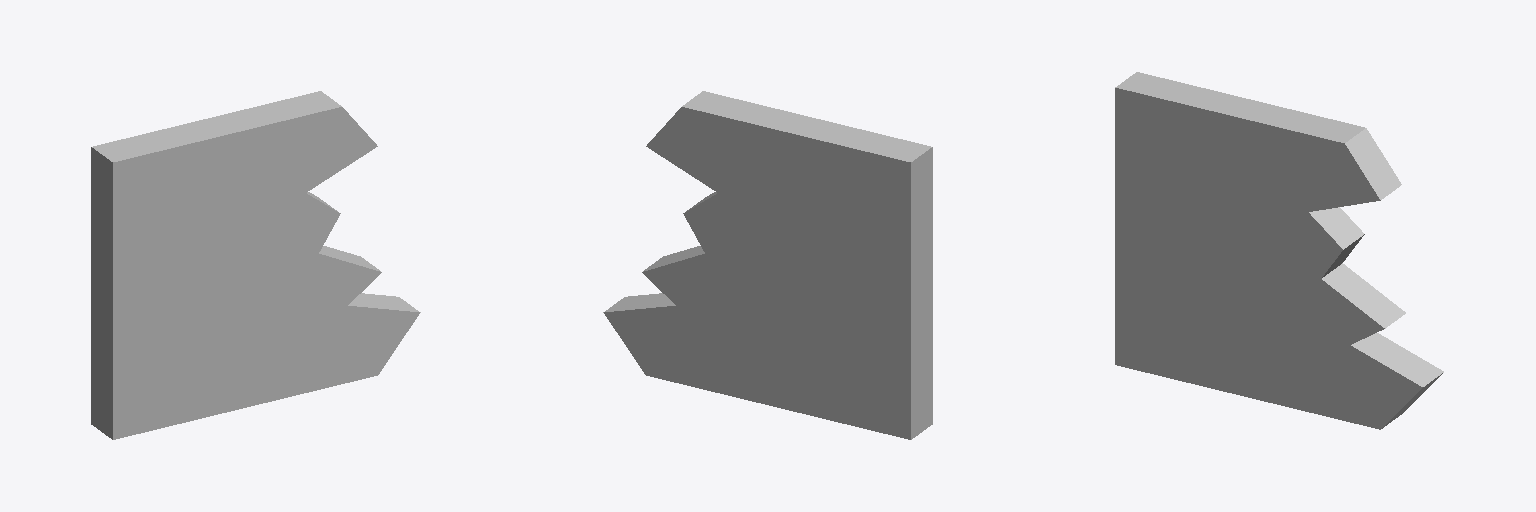
The model's file is microfacet.obj.
3 views of the same model, side by side, from view 1: azimuth 30°, elevation 25°; view 2: azimuth 150°, elevation 25°; view 3: azimuth 330°, elevation 25° (orthographic).
Parts seen in each view (by area): view 1: Cube; view 2: Cube; view 3: Cube.
Boxes of the visible parts, x1=… form: Cube: x1=91, y1=91, x2=420, y2=439; Cube: x1=603, y1=91, x2=932, y2=439; Cube: x1=1115, y1=72, x2=1443, y2=429.
Bounding box in the file's own units: 2.32 × 2 × 0.2816.